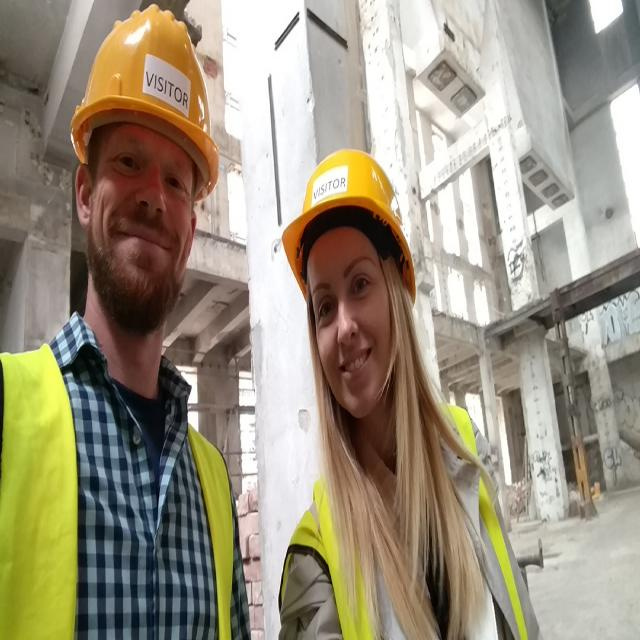Reflective-Jacket: (2, 331, 236, 640), (291, 401, 533, 640)
Safety-Helmet: (69, 3, 222, 198), (279, 142, 426, 302)
